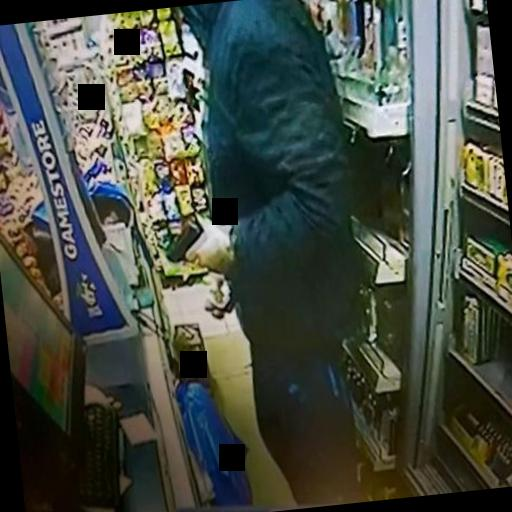Handgun: (157, 215, 211, 265)
